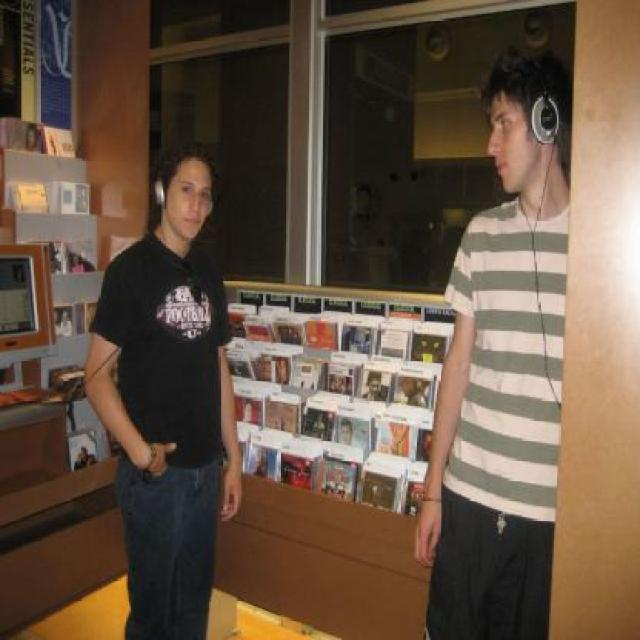earphone: (527, 62, 573, 176), (143, 165, 180, 225)
